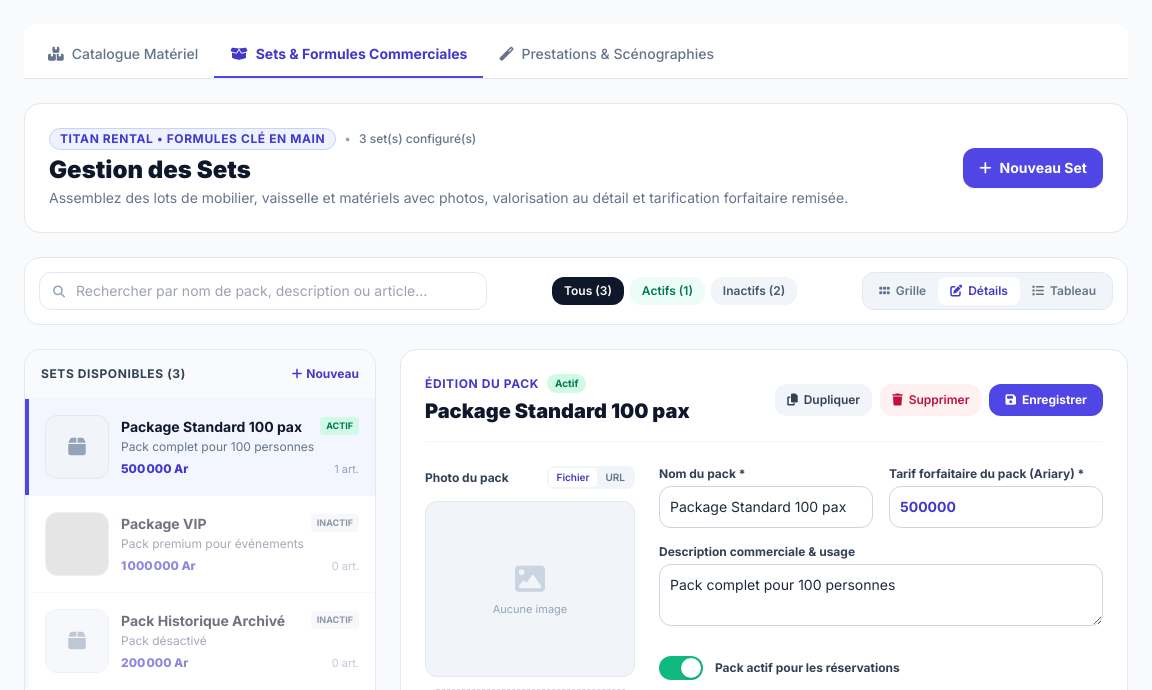
Scenario: PackageBuilderPage › 10. Charge les packages inactifs avec include_inactive et permet de les afficher (F27)
Filter by inactive packages
Click the button "Inactifs (2)" at (754, 291), box [711,277,797,305]
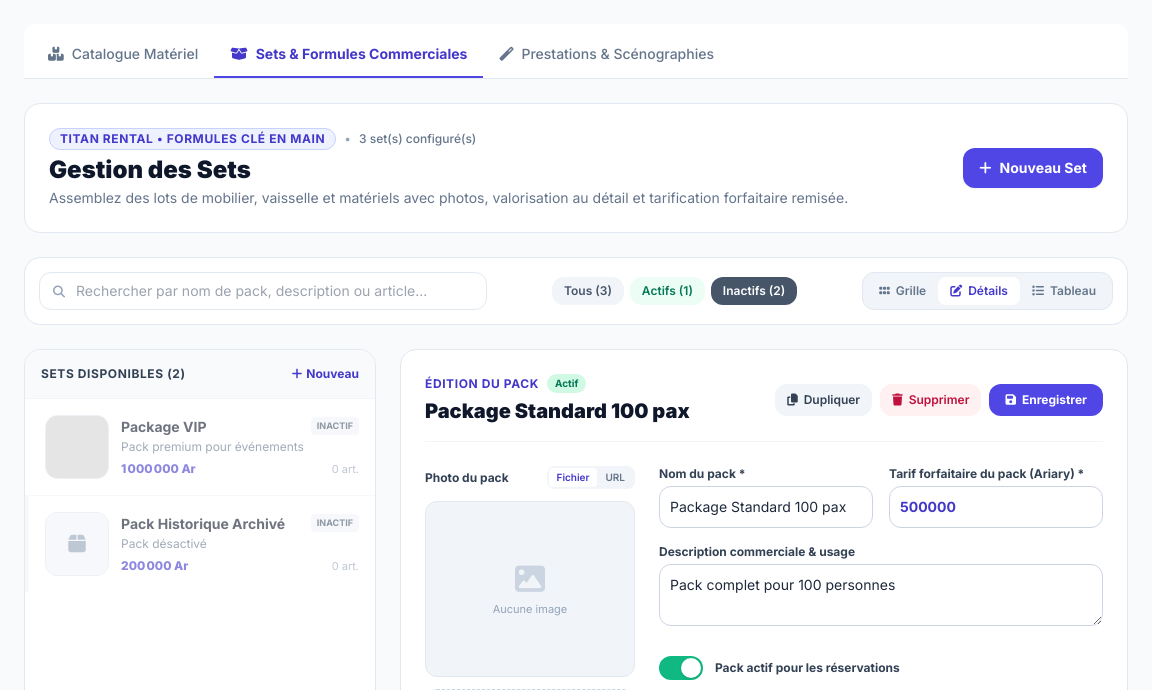
Select the inactive package and verify its details can be viewed and edited
Click the heading "Pack Historique Archivé" at (203, 524), box [121,514,285,534]
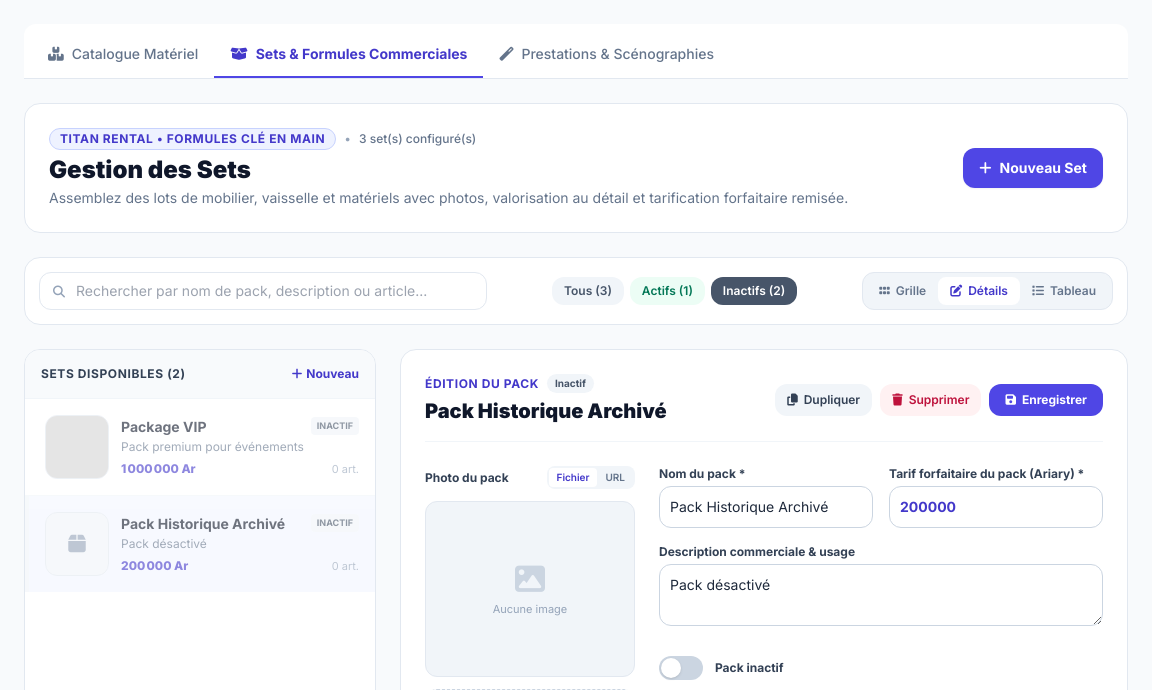
Expected: the field showing "Pack Historique Archivé" is shown, [659,486,873,528]
Expected: the text box showing "Pack désactivé" is shown, [659,564,1103,626]
